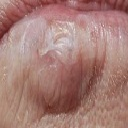Herpes Virus: (39, 18, 80, 62)
